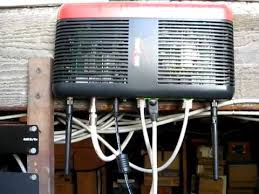Verizon Router: (52, 3, 241, 102)
